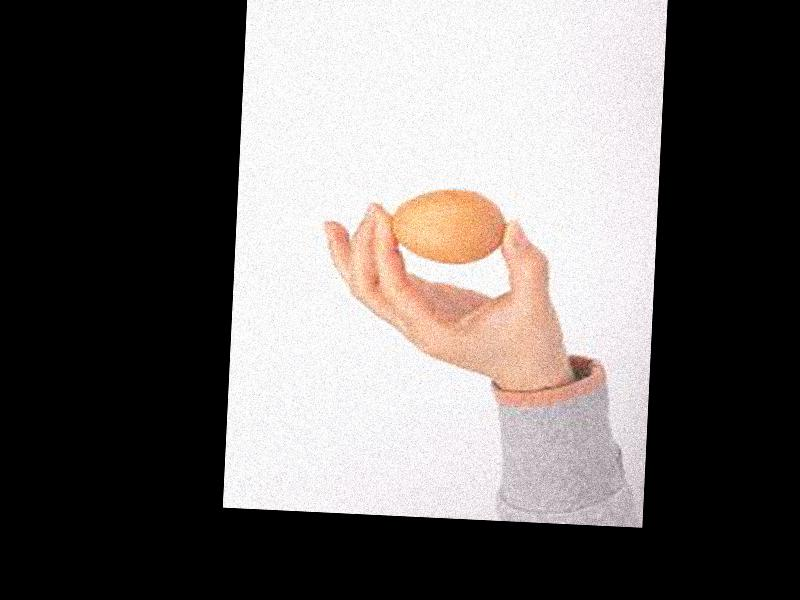Eggs: (387, 186, 504, 263)
